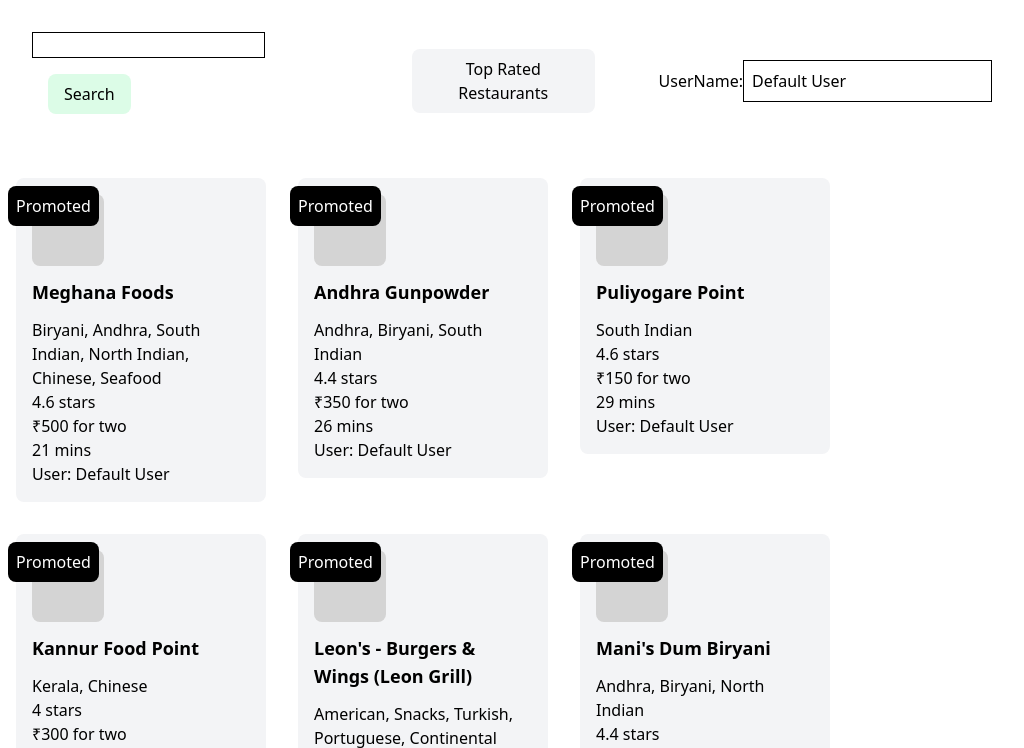
it: Should search Restaurant List for point text input
The image size is (1024, 748).
Type "point" into the field with test id "searchInput" at (148, 45), box [32,32,265,58]
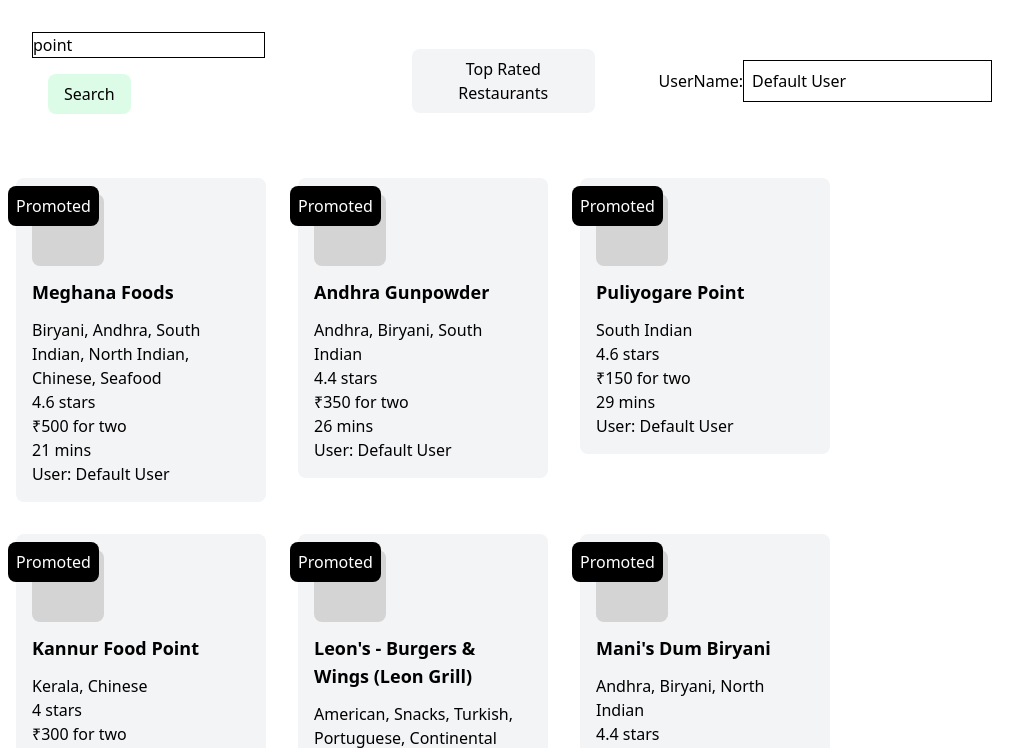
Click the button "Search" at (89, 94), box [48,74,131,114]
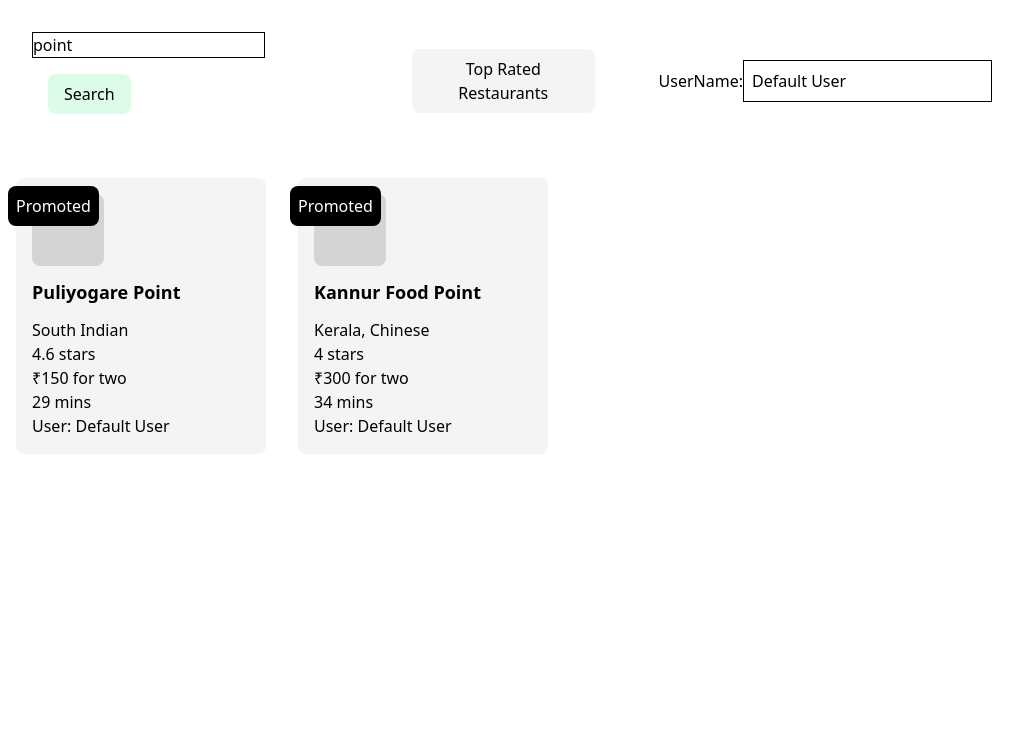
Check: the number of links with test id "resCard" is 2, box [0,162,282,470]; [282,162,564,470]
